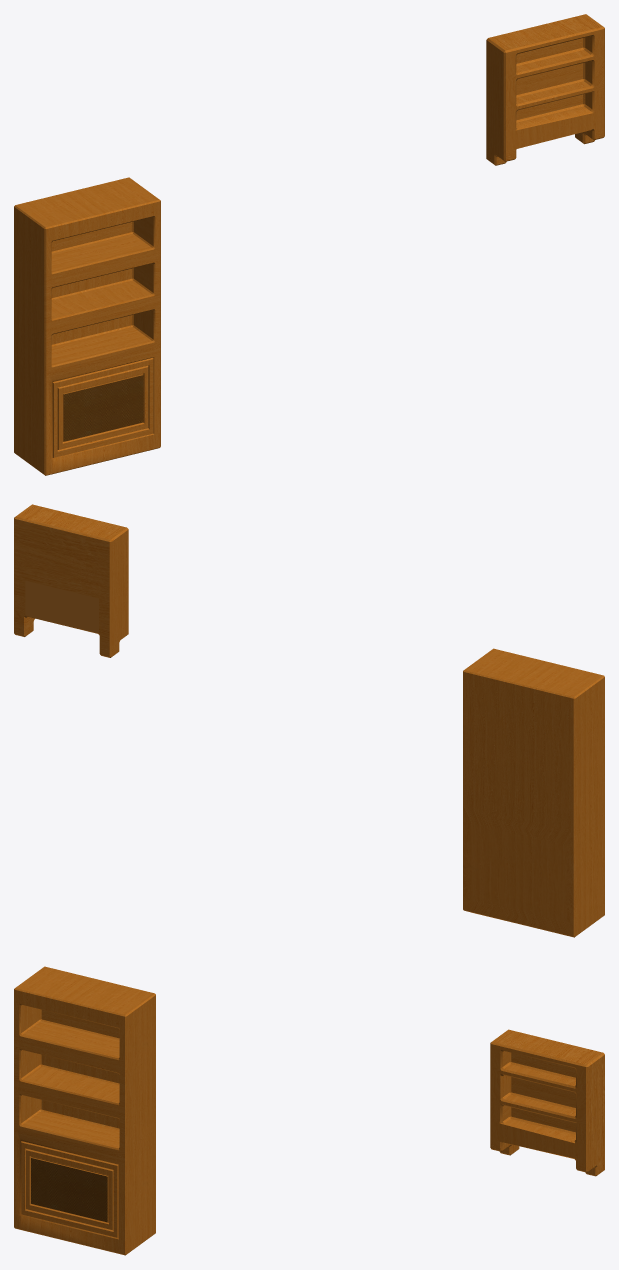
The model's file is MueblesCafes.obj.
3 renders of one model, top to bottom at view 1: azimuth 30°, elevation 25°; view 2: azimuth 150°, elevation 25°; view 3: azimuth 330°, elevation 25°, orthographic. The views are drawn at different scales.
Parts seen in each view (by area): view 1: MueblesCafes:polySurface2; view 2: MueblesCafes:polySurface2; view 3: MueblesCafes:polySurface2.
Part boxes in pixels (x1,y1,x2,y2): MueblesCafes:polySurface2: (14, 14, 604, 475); MueblesCafes:polySurface2: (14, 504, 604, 937); MueblesCafes:polySurface2: (14, 966, 604, 1255).
Bounding box in the file's own units: 7.19 × 3.54 × 0.7679.
Materials: 3 (3 with a texture image).
